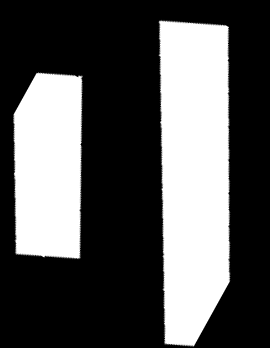parkingspot: (159, 21, 230, 346), (13, 73, 82, 259)
